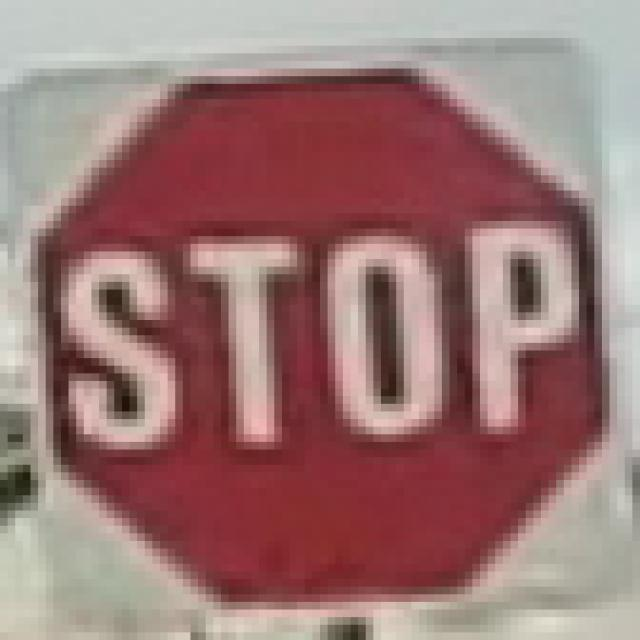mandatorystop_sign: (23, 53, 617, 610)
